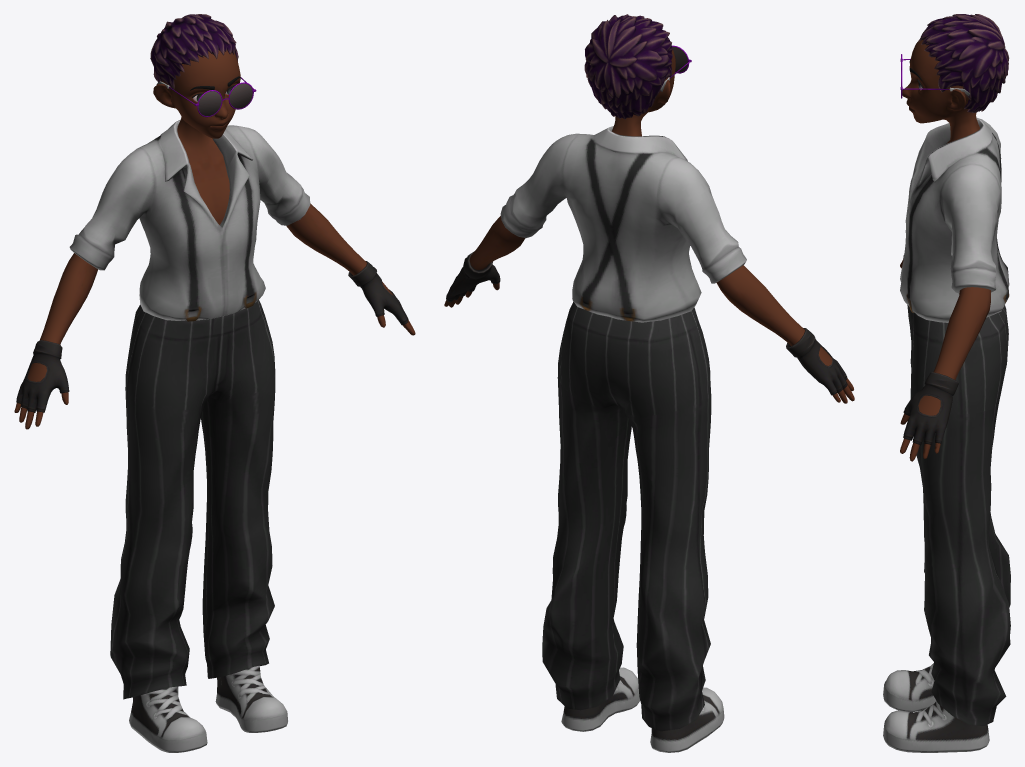
Rendered from StaffBarbara_Mesh.obj.
The picture shows the model from 3 angles, left to right: view 1: azimuth 30°, elevation 25°; view 2: azimuth 150°, elevation 25°; view 3: azimuth 270°, elevation 25°; orthographic projection. The views are drawn at different scales.
Visible parts, largest first — view 1: StaffBarbara_Mesh_0; view 2: StaffBarbara_Mesh_0; view 3: StaffBarbara_Mesh_0.
Boxes of the visible parts, x1,y1,x2,y2 form: StaffBarbara_Mesh_0: (14, 14, 415, 752); StaffBarbara_Mesh_0: (444, 14, 854, 752); StaffBarbara_Mesh_0: (883, 14, 1010, 752).
Size of the model in its own units: 1.06 by 1.81 by 0.2966.
1 material, 1 textured.
